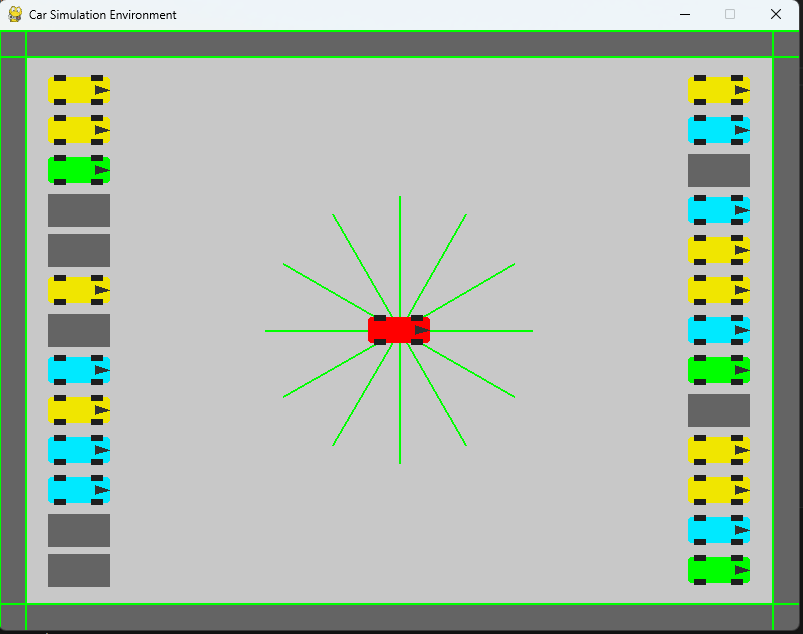ControlledCar: (357, 309, 441, 352)
ParkedCar: (46, 351, 116, 391), (685, 434, 756, 472), (46, 72, 115, 111), (47, 472, 114, 511), (684, 512, 754, 548), (685, 552, 753, 589), (44, 113, 117, 147), (677, 74, 753, 106), (45, 271, 114, 306), (687, 313, 756, 348), (687, 471, 752, 508), (685, 192, 750, 228), (49, 154, 117, 188), (683, 354, 753, 387), (688, 273, 751, 308), (49, 392, 111, 427), (684, 114, 750, 146), (689, 234, 751, 268), (45, 435, 111, 465)
ParkingSpot: (681, 388, 757, 432), (42, 309, 116, 349), (43, 553, 118, 591), (42, 193, 116, 231), (684, 149, 756, 188), (46, 511, 118, 548), (44, 232, 115, 267)
